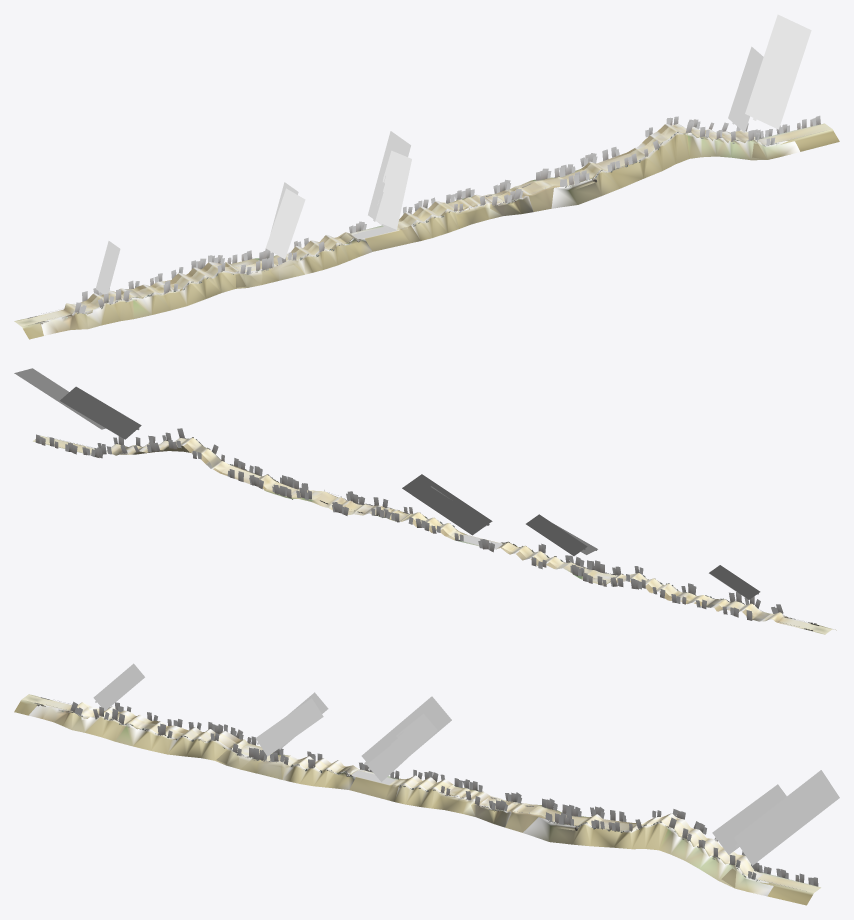
Rendered from Beach_03.fbx.
The picture shows the model from 3 angles, top to bottom: view 1: azimuth 30°, elevation 25°; view 2: azimuth 150°, elevation 25°; view 3: azimuth 330°, elevation 25°; orthographic projection. The views are drawn at different scales.
Visible parts, largest first — view 1: Mountain_01, Light_01, Tree_02, Road_01, Ground_01; view 2: Light_01, Tree_02, Ground_01, Road_01; view 3: Mountain_01, Light_01, Tree_02, Road_01, Ground_01.
Part boxes in pixels (left/top/right/bottom): Mountain_01: left=41, top=132, right=800, bottom=335; Light_01: left=95, top=14, right=811, bottom=294; Tree_02: left=40, top=115, right=820, bottom=324; Road_01: left=14, top=123, right=839, bottom=339; Ground_01: left=15, top=124, right=831, bottom=326; Light_01: left=14, top=368, right=760, bottom=599; Tree_02: left=35, top=428, right=816, bottom=624; Ground_01: left=33, top=436, right=831, bottom=633; Road_01: left=33, top=435, right=836, bottom=634; Mountain_01: left=29, top=704, right=773, bottom=896; Light_01: left=93, top=663, right=839, bottom=865; Tree_02: left=36, top=701, right=818, bottom=886; Road_01: left=14, top=694, right=820, bottom=905; Ground_01: left=22, top=695, right=820, bottom=892.
Bounding box in the file's own units: 82754 × 10674 × 7065.
